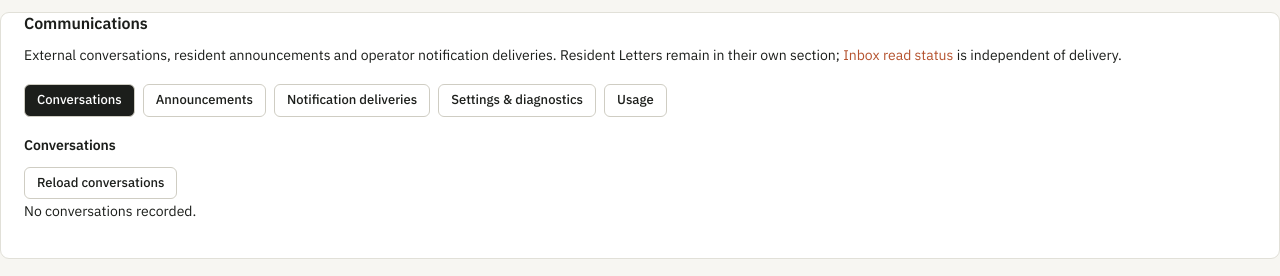
Test: shows three separate sections and bounded empty pages without probing
This screenshot has width=1280, height=276.
expect the text "No conversations recorded." is shown: met, box [24,202,196,220]
Click the button "Announcements".
click(204, 101)  # box [143,84,266,117]
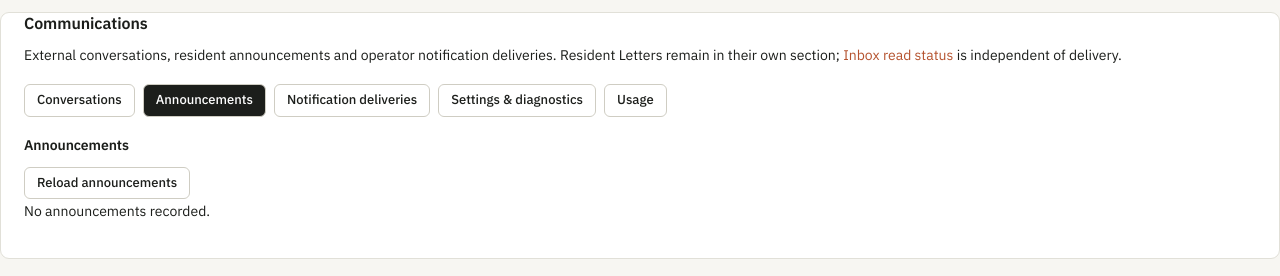
expect the text "No announcements recorded." is shown: met, box [24,202,210,220]
Click the button "Notification deliveries".
click(352, 101)  # box [274,84,430,117]
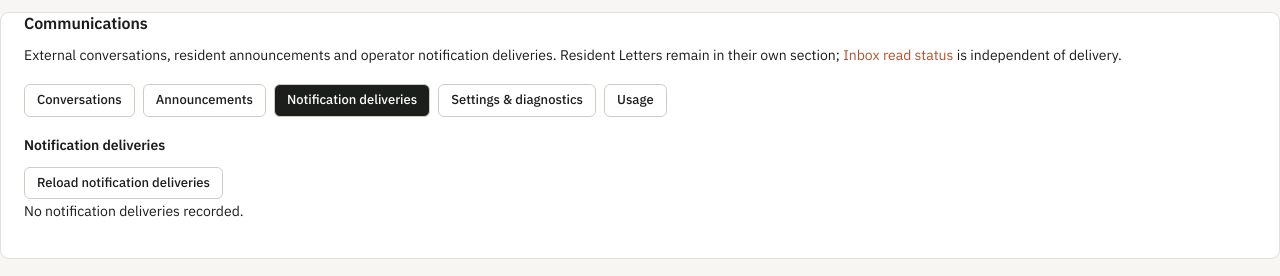
expect the text "Resident Letters remain" is shown: met, box [24,46,840,64]
expect the text "No notification deliveries recorded." is shown: met, box [24,202,244,220]
